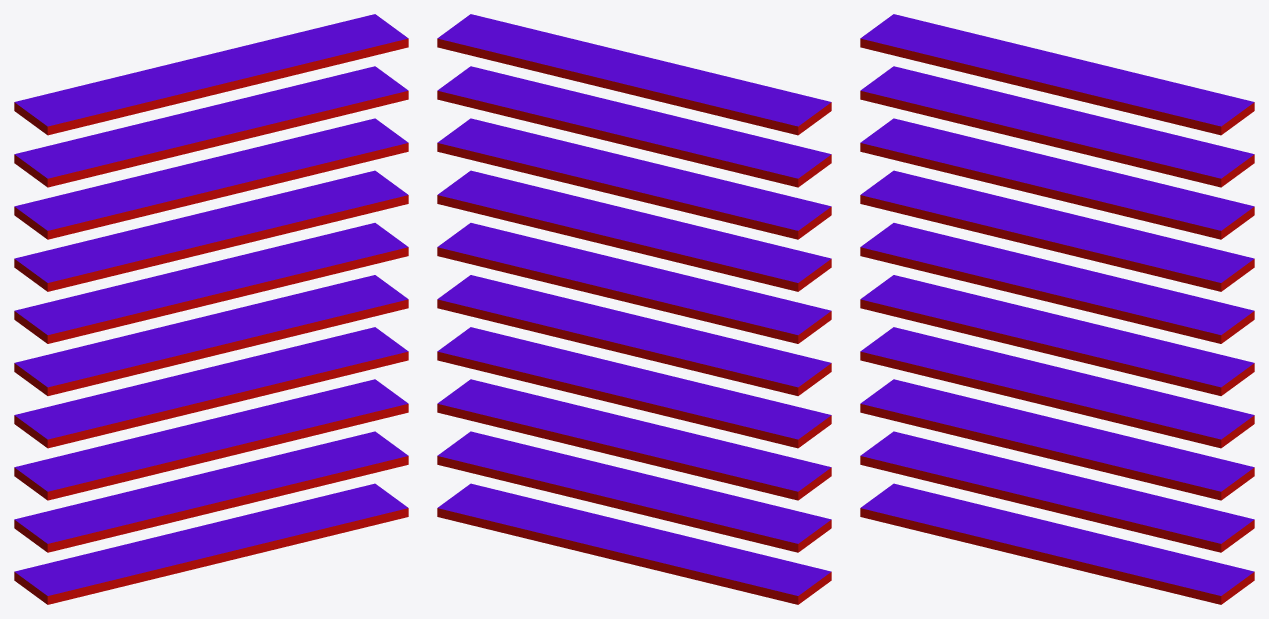
The model's file is shaderHorizontal.fbx.
3 views of the same model, side by side, from view 1: azimuth 30°, elevation 25°; view 2: azimuth 150°, elevation 25°; view 3: azimuth 330°, elevation 25° (orthographic).
Parts seen in each view (by area): view 1: shaderHorizontal; view 2: shaderHorizontal; view 3: shaderHorizontal.
Boxes of the visible parts, x1,y1,x2,y2 form: shaderHorizontal: (14,14,408,604); shaderHorizontal: (437,14,831,604); shaderHorizontal: (860,14,1254,604).
Bounding box in the file's own units: 1000 × 1266 × 161.
